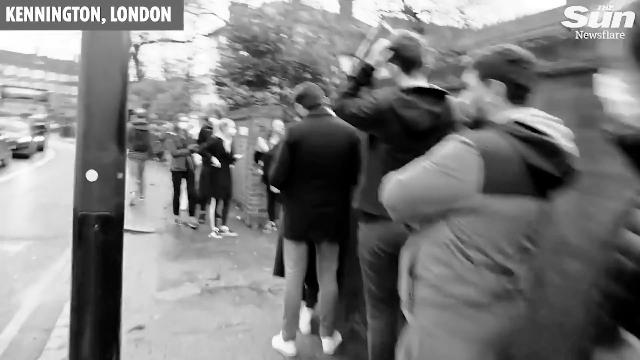berdiri: (377, 41, 583, 360), (270, 81, 362, 360), (198, 105, 240, 245)
